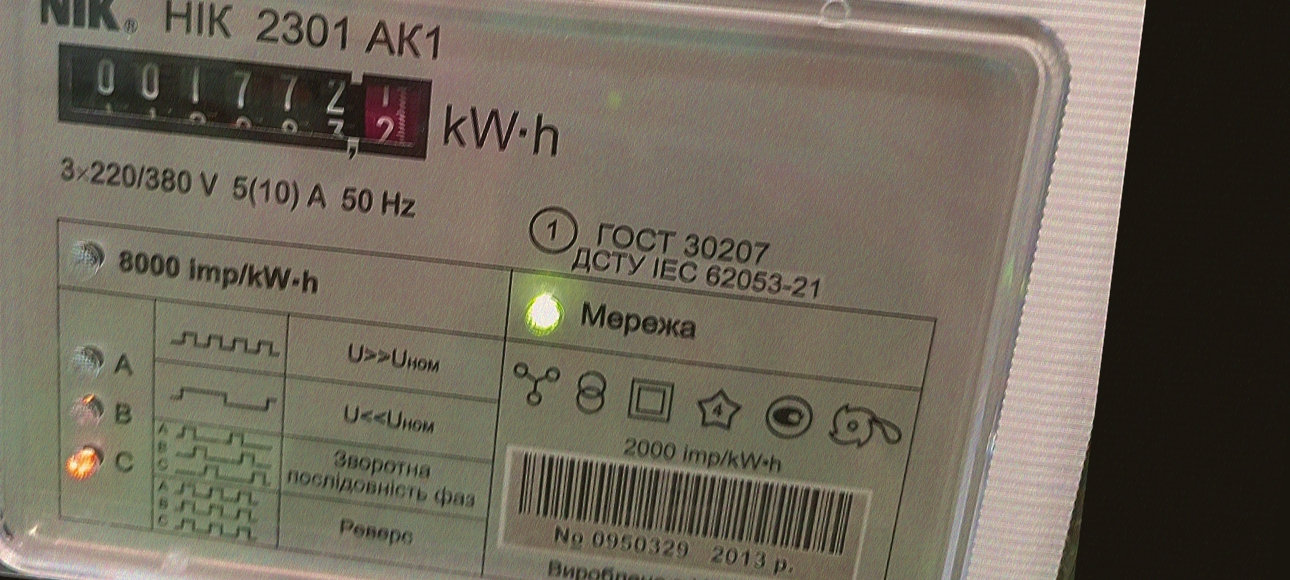0: (89, 52, 122, 95), (137, 57, 164, 99)
1: (185, 62, 207, 103), (378, 82, 394, 109)
2: (323, 76, 350, 115), (371, 111, 397, 142)
3: (325, 115, 349, 138)
7: (228, 66, 255, 109), (274, 71, 300, 111)
screen: (37, 21, 454, 178)
